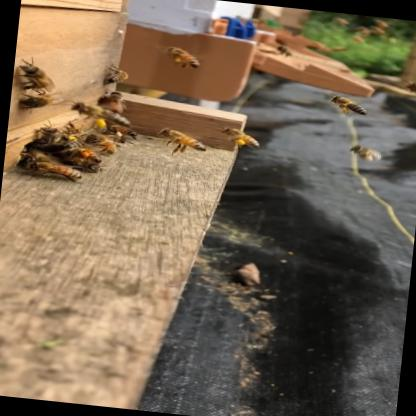bee: (20, 74, 278, 219), (142, 32, 222, 82), (10, 38, 56, 110), (85, 49, 144, 96), (69, 117, 140, 156), (148, 117, 210, 158), (209, 115, 268, 157), (316, 89, 378, 124)
